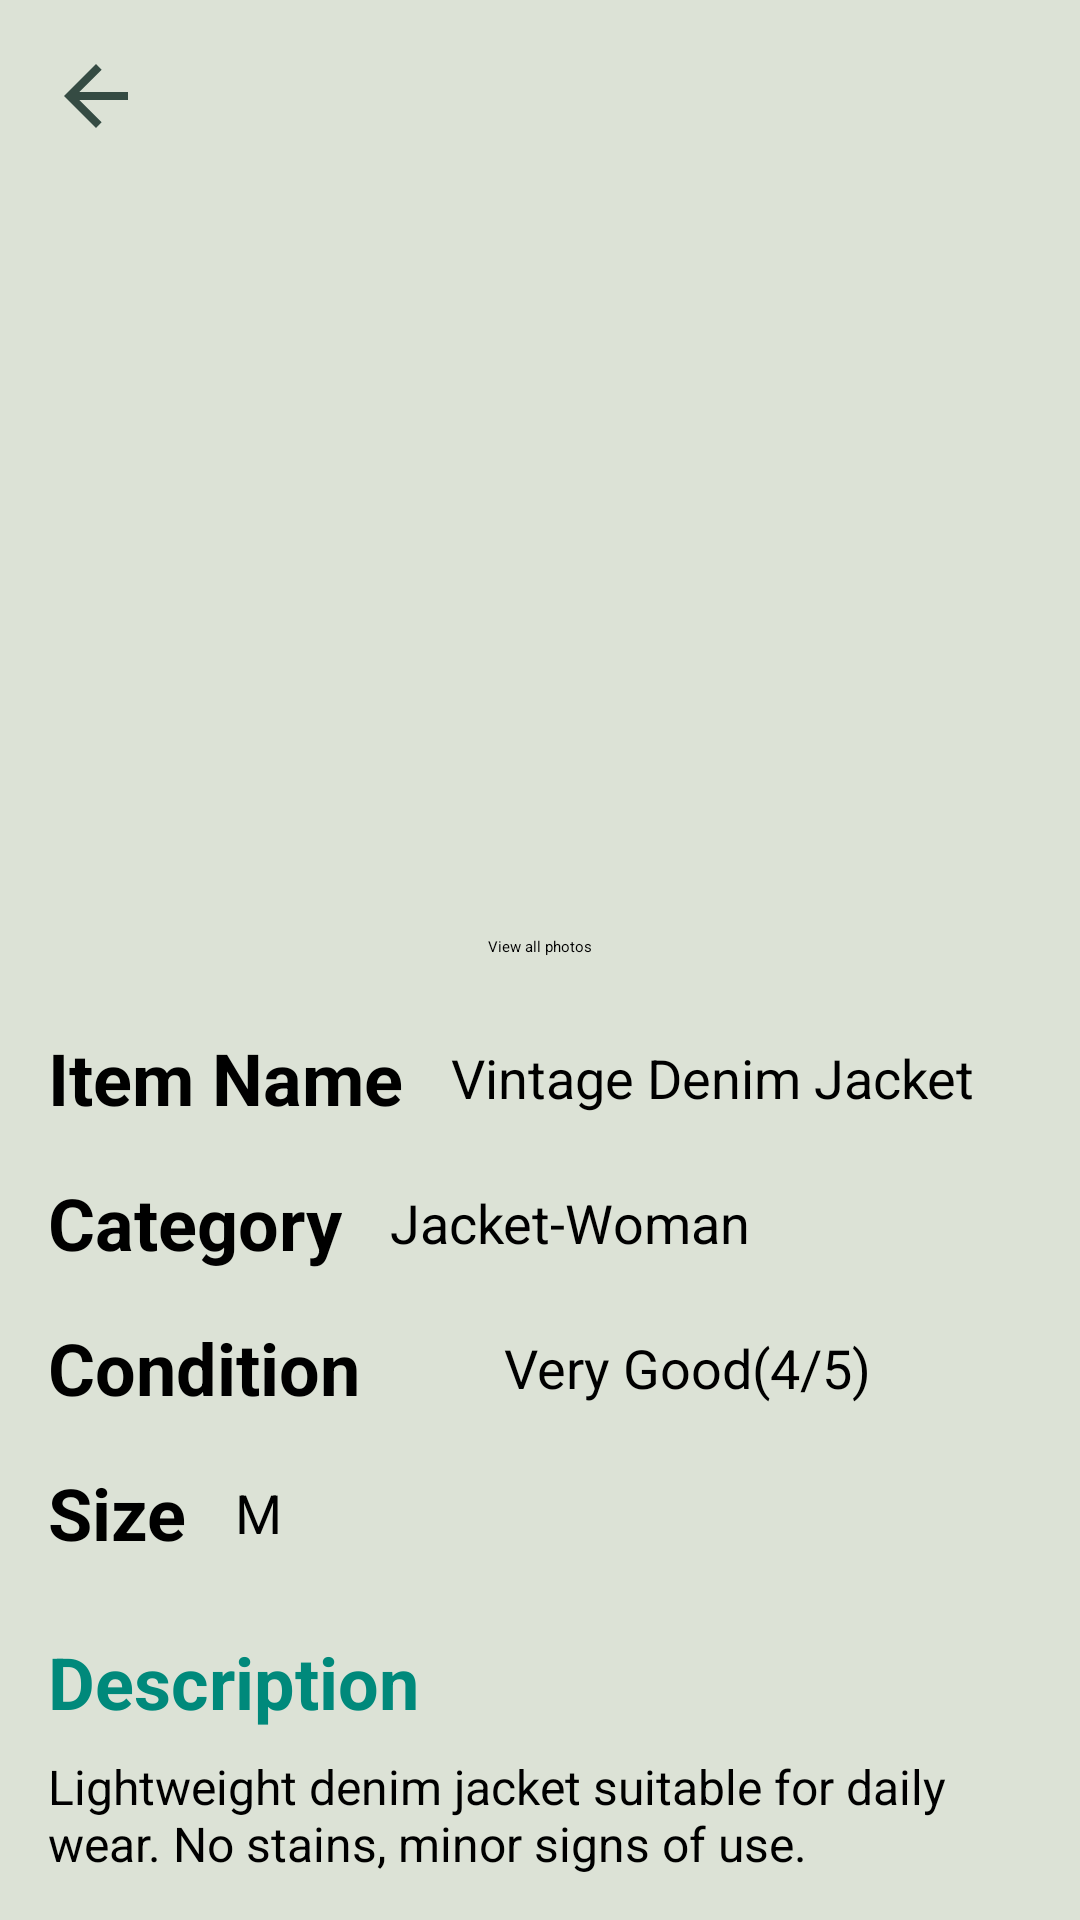

Locate icon controls on the screen. Image size 1080*1920, boxes as (x1, y1, x2, y2).
Back: (64, 64, 128, 128)
